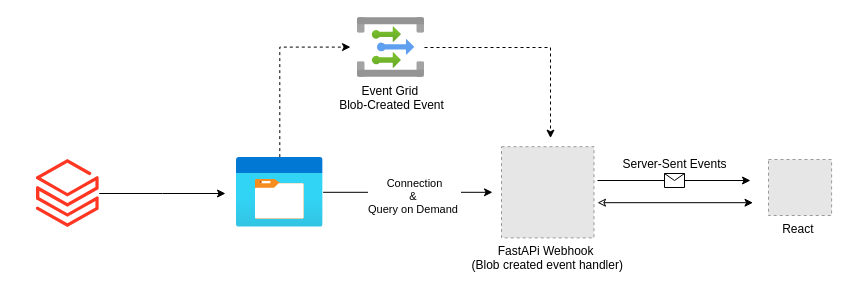
The diagram is 850 pixels wide and 290 high, and some of its shapes have lost their labels. Grey dashed boxes stand in for pictures. Each missing label, with the box of its shape:
Blob Storage: (236, 157, 323, 227)
Delta Live Table streaming Pipeline: (36, 159, 99, 227)
